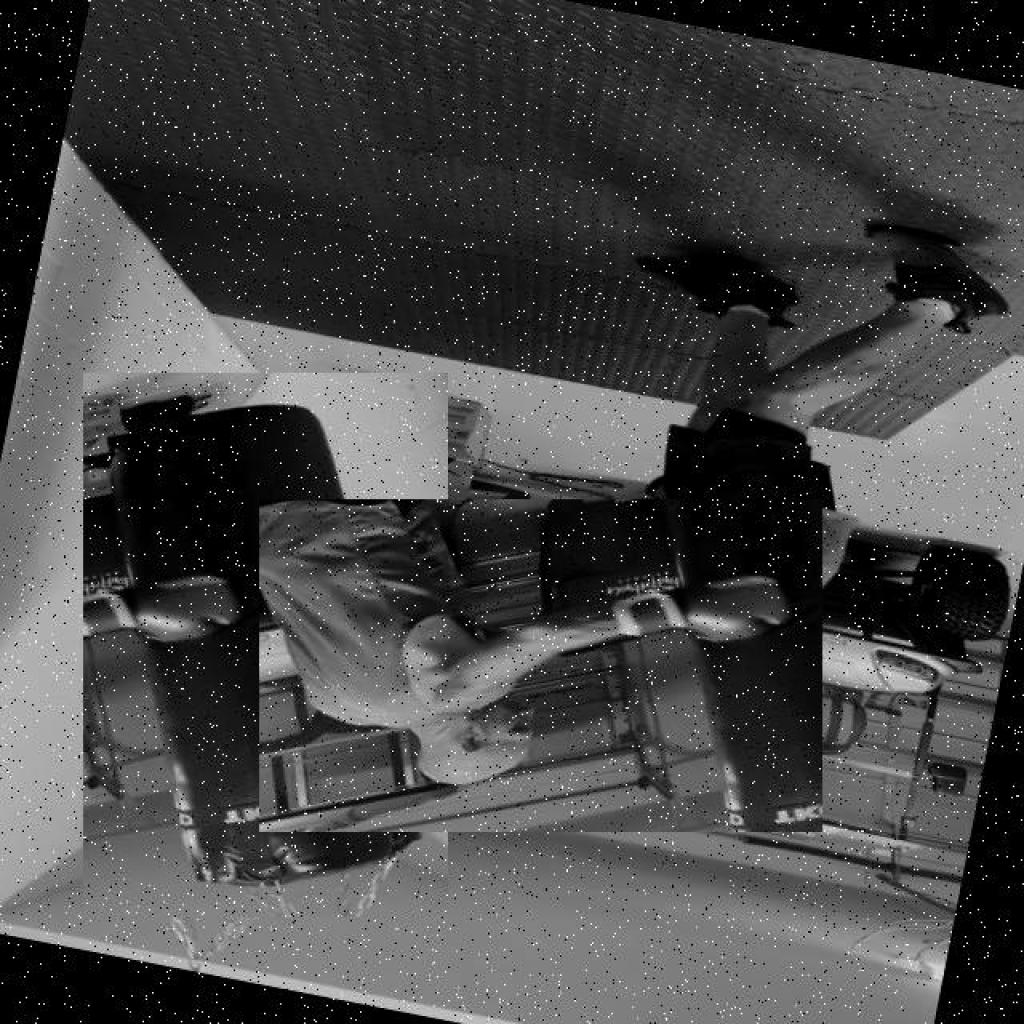bag: (83, 373, 448, 917)
hook: (259, 499, 823, 833)
